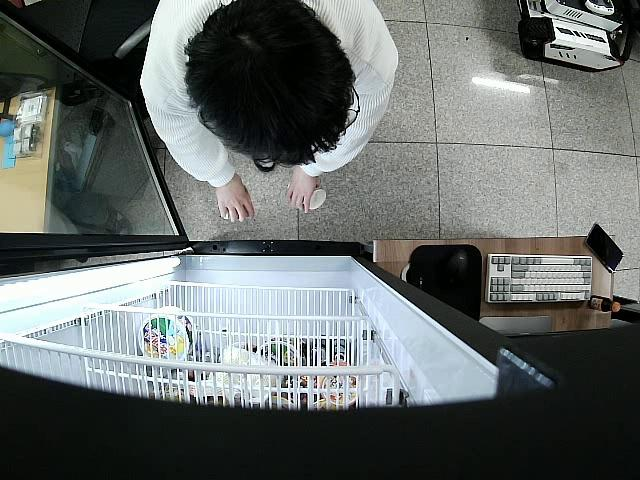00_hand: (215, 172, 255, 223), (284, 165, 320, 215)
